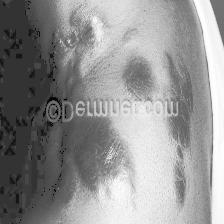Potentially Malignant Skin Tumors: (48, 120, 142, 202), (54, 7, 116, 58), (130, 60, 194, 96), (169, 122, 191, 194)
